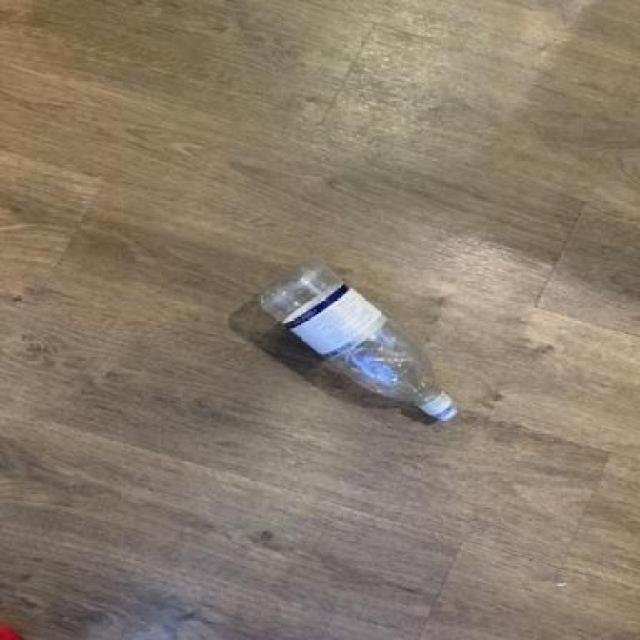trash: (256, 258, 464, 424)
